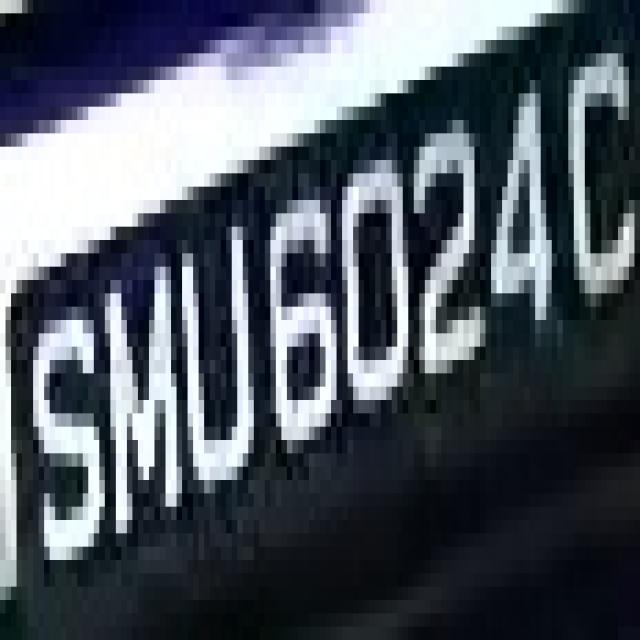0: (331, 147, 408, 400)
2: (397, 94, 491, 414)
4: (474, 54, 558, 334)
6: (248, 147, 342, 440)
C: (563, 27, 640, 333)
M: (94, 240, 188, 560)
S: (22, 293, 105, 587)
U: (171, 187, 259, 493)
